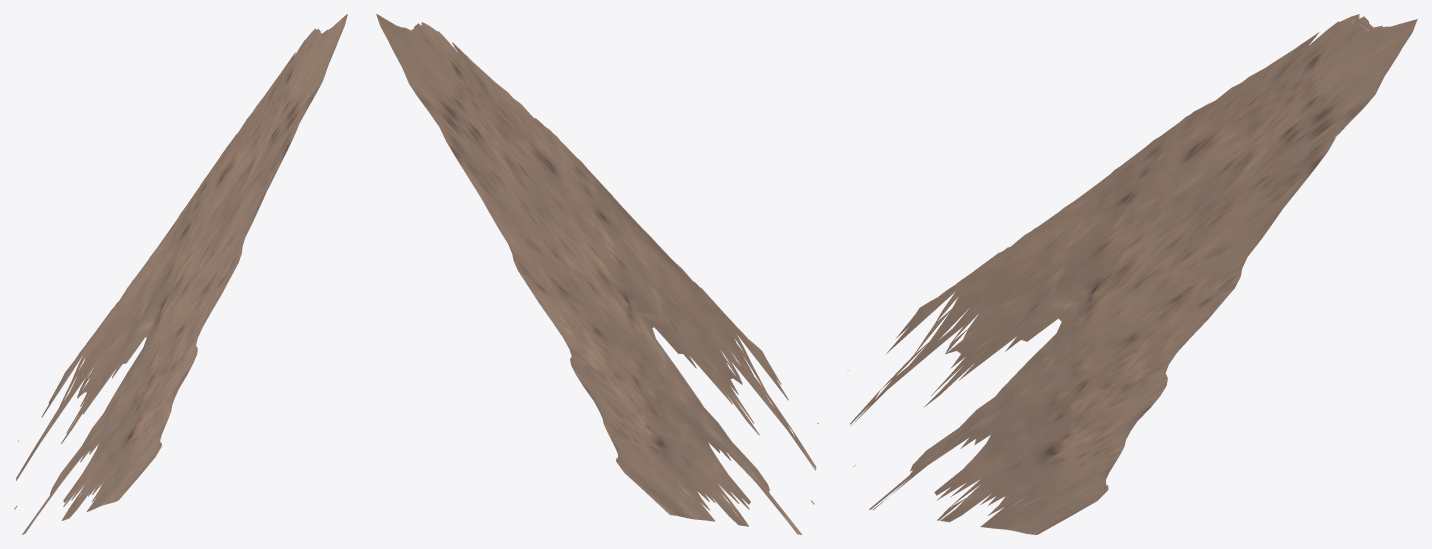
3 renders of one model, left to right at view 1: azimuth 30°, elevation 25°; view 2: azimuth 150°, elevation 25°; view 3: azimuth 330°, elevation 25°, orthographic. The views are drawn at different scales.
Bounding box in the file's own units: 31.17 × 33.42 × 5.53.
Materials: 1 (1 with a texture image).
